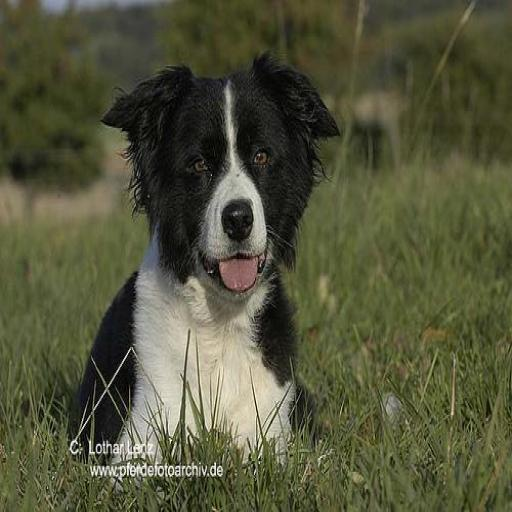dog_face: (120, 56, 341, 298)
